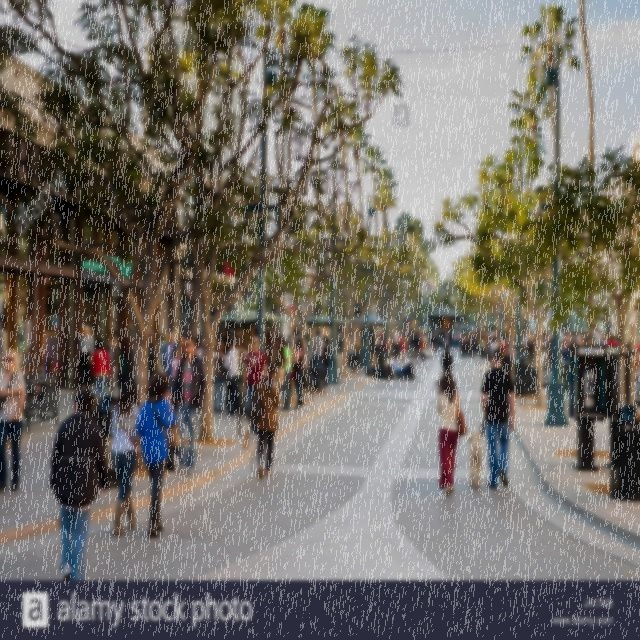pessoa: (48, 382, 113, 598), (135, 370, 178, 542), (168, 332, 207, 477), (110, 378, 142, 537), (481, 347, 516, 490), (432, 369, 468, 497), (241, 362, 280, 480), (0, 348, 27, 493), (243, 336, 269, 440), (222, 338, 245, 417), (89, 336, 113, 408), (74, 323, 96, 393), (276, 336, 293, 412), (115, 335, 136, 395), (290, 336, 306, 412), (213, 340, 228, 414), (502, 328, 537, 356), (162, 331, 182, 378), (105, 334, 120, 396), (563, 330, 611, 346), (429, 325, 462, 346), (512, 356, 530, 394), (147, 331, 159, 384), (378, 350, 394, 378), (440, 344, 454, 376), (158, 330, 170, 365), (311, 330, 325, 360), (170, 346, 182, 379), (391, 354, 406, 380), (476, 330, 488, 362), (148, 336, 156, 382), (634, 348, 640, 409), (411, 332, 422, 364), (490, 336, 500, 370), (560, 338, 570, 372), (402, 323, 427, 336), (398, 332, 408, 364), (546, 334, 554, 374), (491, 345, 504, 368), (287, 330, 298, 356), (498, 336, 512, 356), (369, 326, 384, 344), (502, 348, 512, 373), (540, 326, 548, 356), (543, 332, 551, 361), (419, 336, 427, 364), (394, 328, 401, 359), (195, 336, 204, 360), (605, 332, 619, 347), (274, 332, 280, 367), (458, 332, 466, 358), (624, 335, 640, 348), (276, 334, 284, 360), (322, 336, 332, 356), (108, 328, 119, 346), (468, 334, 476, 358), (474, 329, 481, 356), (484, 327, 497, 340), (178, 334, 185, 358), (432, 331, 438, 354), (336, 326, 342, 349), (466, 326, 477, 338), (294, 331, 300, 351), (383, 339, 389, 359), (406, 331, 412, 351), (521, 342, 529, 357), (121, 329, 130, 342), (460, 329, 466, 342), (465, 338, 469, 356), (193, 343, 198, 357), (562, 337, 568, 347), (184, 327, 191, 335), (286, 334, 291, 344), (303, 332, 308, 342), (462, 326, 466, 338), (130, 338, 134, 348), (198, 329, 202, 337), (410, 331, 415, 336)
